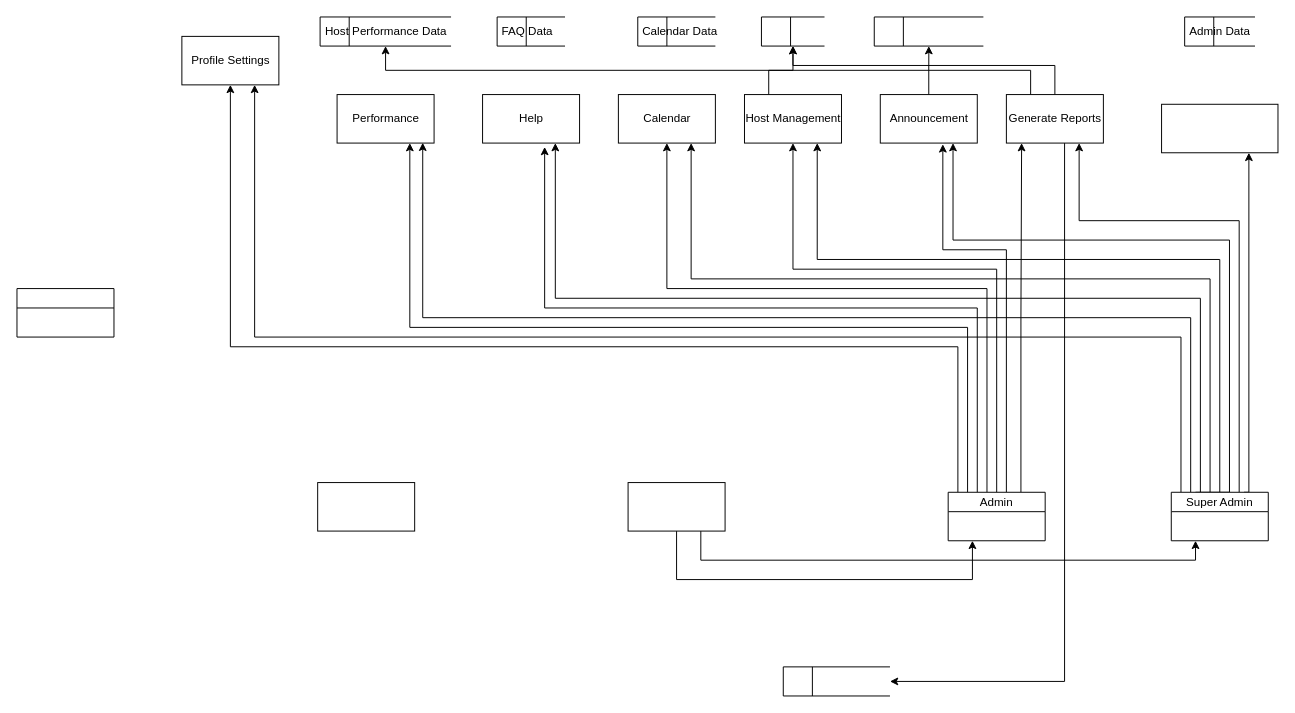
Image size: 1295x713. Some labels were removed from this diagram. The shapes that lost their labels are listed below. From the top down, each one's centre as x and y in pixels, then its label:
pixel 792 31: Host Data
pixel 928 31: Announcement Data
pixel 1219 128: Admin Management
pixel 65 312: Host
pixel 366 506: Registration
pixel 676 506: Login
pixel 836 681: Pending_host data
